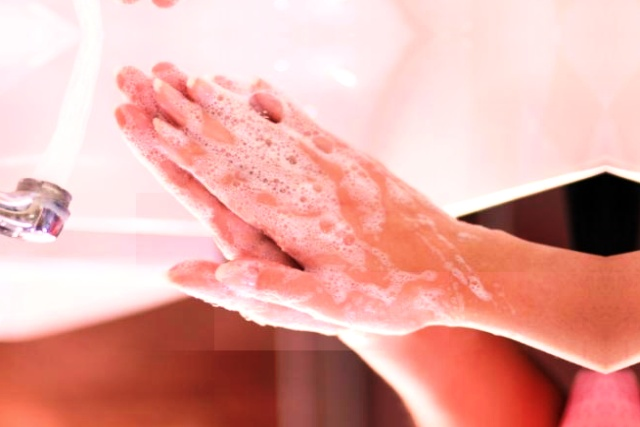washing hand: (0, 39, 471, 372)
